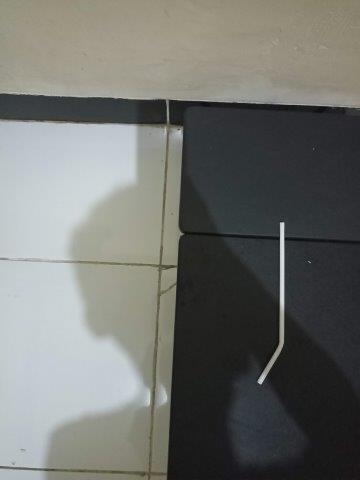sedotan: (256, 222, 285, 384)
